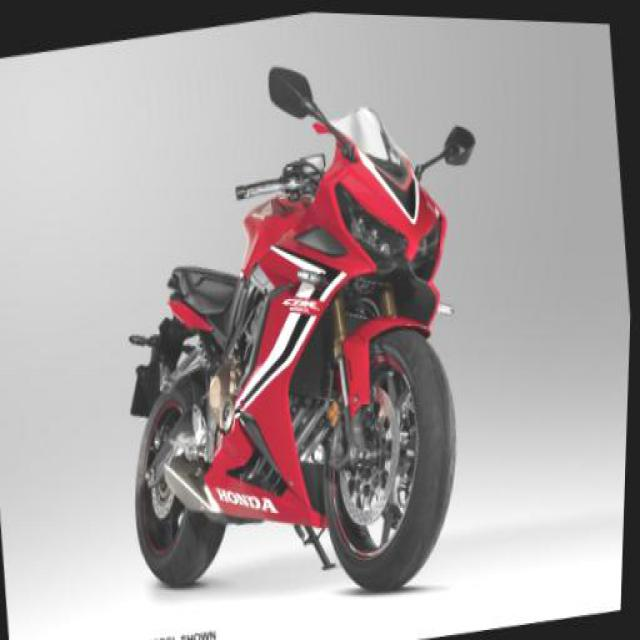CBR650R: (97, 80, 484, 637)
